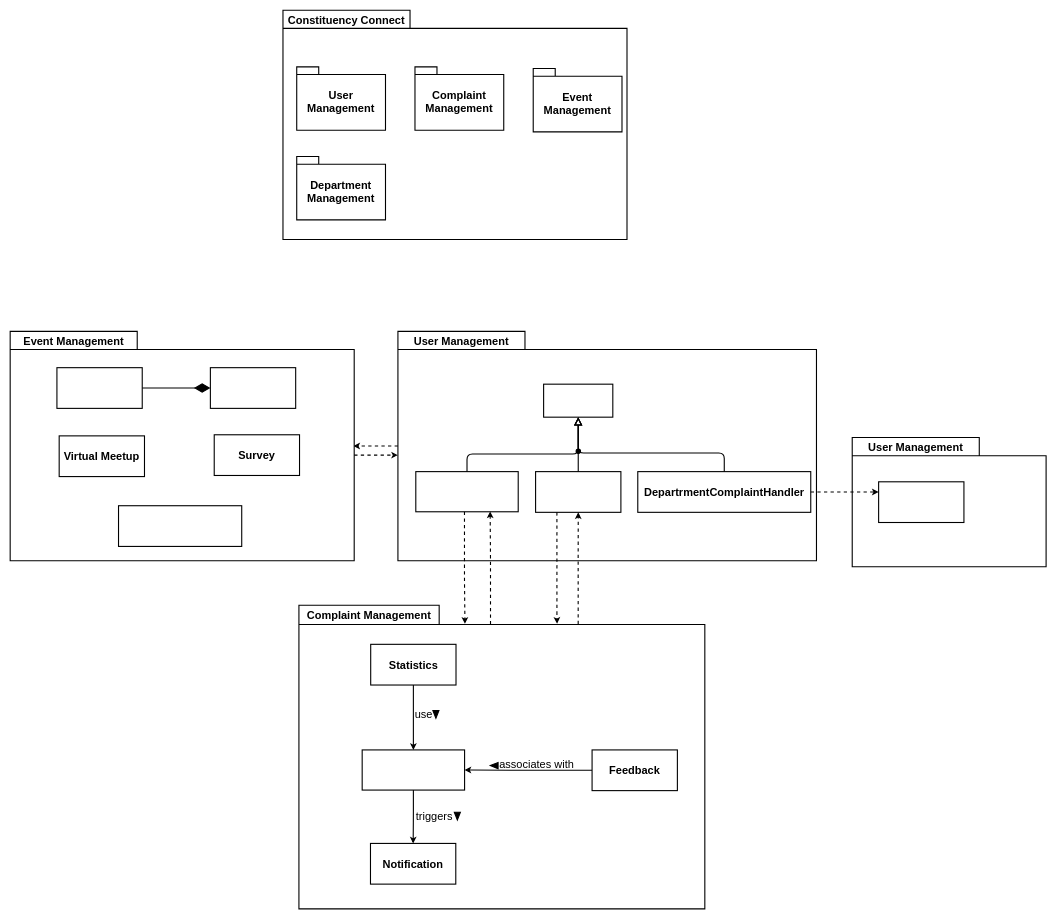
The diagram is 1056 pixels wide and 919 high, and some of its shapes have lost their labels. Each missing label, with the centre of its shape:
AwarenessCampaign: the point at 180,526
Complaint: the point at 413,769
Constituent: the point at 578,492
Department: the point at 921,502
Event: the point at 253,388
EventCalender: the point at 99,388
Representative: the point at 466,491
User: the point at 578,400
